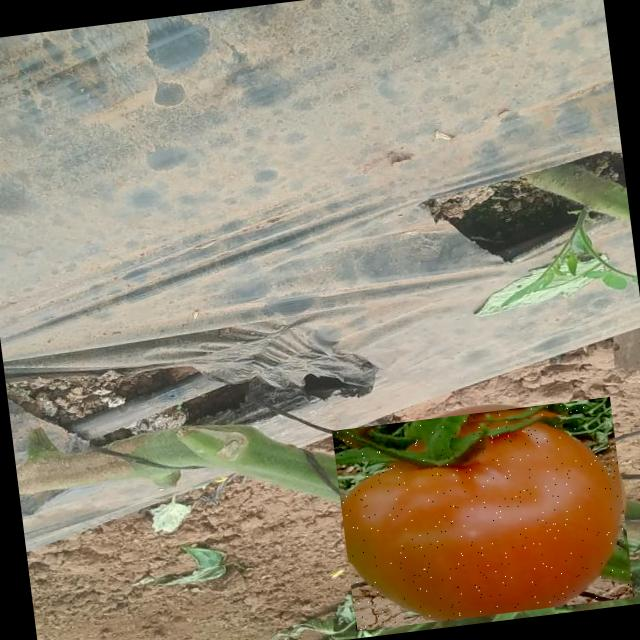Ripe Tomato: (332, 396, 635, 631)
